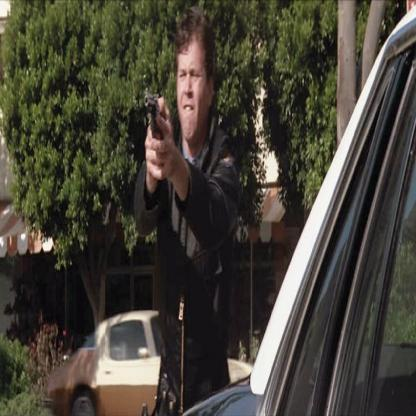gun: (136, 80, 168, 169)
